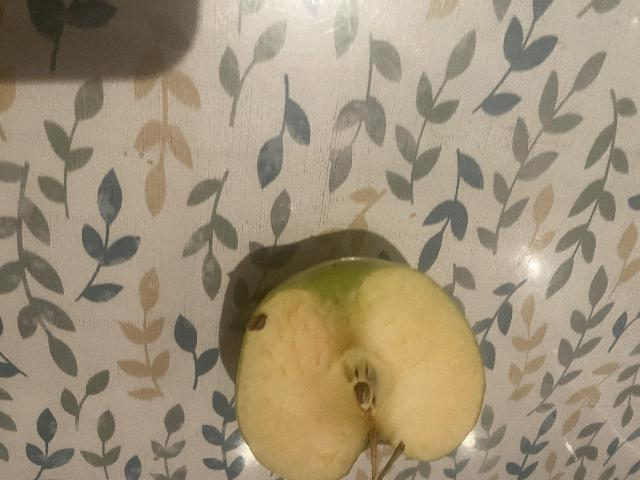Organik: (233, 251, 494, 480)
